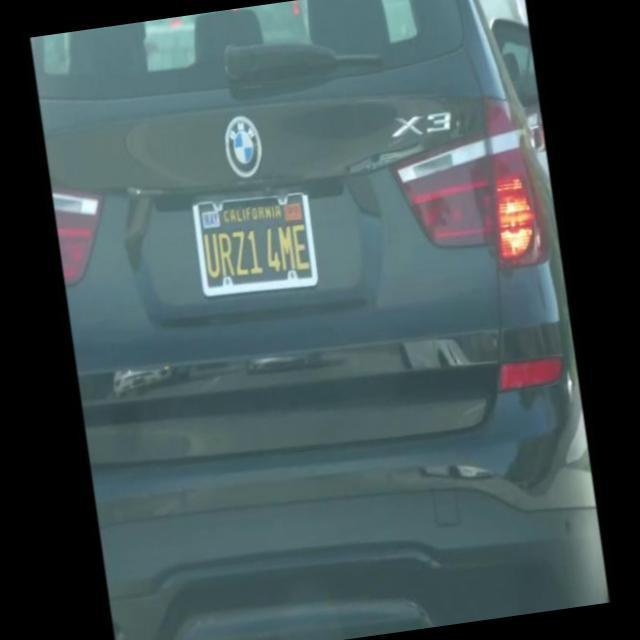License Plate: (191, 174, 319, 298)
